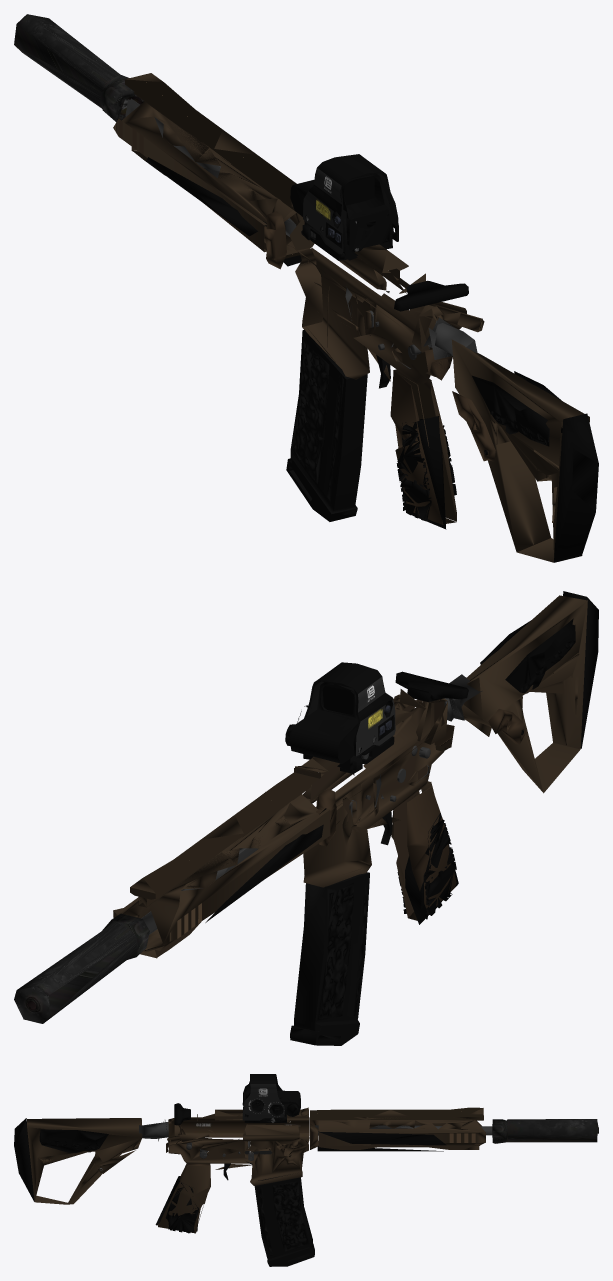
The model's file is m4_far.glb.
3 views of the same model, one above another, from view 1: azimuth 30°, elevation 25°; view 2: azimuth 150°, elevation 25°; view 3: azimuth 270°, elevation 25° (orthographic). The views are drawn at different scales.
Visible parts, largest first — view 1: body_mk18__1__1__1__2__11, body_Rubber__2, body_mk18__1__1__1__2__2, body_Paint_Textured_Black__4, body_mk18__1__1__1__2__1__1, supp_SOCOM, body_mk18__1__1__1__2__10, optic_scope1, body_mk18__1__1__1__2__1, optic_uv6__1__1__1__1, body_Anodized_Aluminum_Brushed_90___Black__1, charge_Hard_Rough_Plastic_Black__1 (+1 smaller); view 2: body_mk18__1__1__1__2__11, body_Paint_Textured_Black__4, body_mk18__1__1__1__2__2, body_mk18__1__1__1__2__1__1, body_Rubber__2, supp_SOCOM, body_mk18__1__1__1__2__10, optic_scope1, body_mk18__1__1__1__2__1, optic_uv6__1__1__1__1, charge_Hard_Rough_Plastic_Black__1, body_Anodized_Aluminum_Brushed_90___Black__1 (+2 smaller); view 3: body_mk18__1__1__1__2__11, body_mk18__1__1__1__2__2, body_Rubber__2, body_Paint_Textured_Black__4, body_mk18__1__1__1__2__1__1, supp_SOCOM, body_mk18__1__1__1__2__1, body_mk18__1__1__1__2__10, optic_scope1, body_Anodized_Aluminum_Brushed_90___Black__1, optic_uv6__1__2__1, optic_uv6__1__1__1__1 (+1 smaller).
Part boxes in pixels (x1,y1,x2,y2): body_mk18__1__1__1__2__11: [125, 73, 589, 562]; body_Rubber__2: [146, 157, 598, 562]; body_mk18__1__1__1__2__2: [289, 215, 484, 521]; body_Paint_Textured_Black__4: [286, 329, 390, 521]; body_mk18__1__1__1__2__1__1: [113, 101, 386, 290]; supp_SOCOM: [14, 14, 144, 121]; body_mk18__1__1__1__2__10: [264, 211, 495, 524]; optic_scope1: [290, 174, 392, 260]; body_mk18__1__1__1__2__1: [131, 147, 557, 522]; optic_uv6__1__1__1__1: [303, 154, 398, 253]; body_Anodized_Aluminum_Brushed_90___Black__1: [122, 98, 477, 359]; charge_Hard_Rough_Plastic_Black__1: [394, 280, 468, 311]; body_mk18__1__1__1__2__11: [130, 595, 587, 920]; body_Paint_Textured_Black__4: [290, 811, 392, 1045]; body_mk18__1__1__1__2__2: [303, 694, 444, 917]; body_mk18__1__1__1__2__1__1: [113, 767, 352, 952]; body_Rubber__2: [205, 591, 598, 924]; supp_SOCOM: [14, 913, 149, 1023]; body_mk18__1__1__1__2__10: [316, 709, 525, 913]; optic_scope1: [285, 682, 394, 773]; body_mk18__1__1__1__2__1: [140, 676, 578, 958]; optic_uv6__1__1__1__1: [304, 662, 394, 756]; charge_Hard_Rough_Plastic_Black__1: [395, 671, 468, 702]; body_Anodized_Aluminum_Brushed_90___Black__1: [141, 674, 482, 934]; body_mk18__1__1__1__2__11: [27, 1107, 483, 1228]; body_mk18__1__1__1__2__2: [158, 1120, 309, 1233]; body_Rubber__2: [14, 1118, 446, 1233]; body_Paint_Textured_Black__4: [223, 1163, 314, 1266]; body_mk18__1__1__1__2__1__1: [243, 1118, 485, 1146]; supp_SOCOM: [492, 1119, 598, 1143]; body_mk18__1__1__1__2__1: [96, 1107, 479, 1174]; body_mk18__1__1__1__2__10: [166, 1117, 318, 1177]; optic_scope1: [243, 1085, 300, 1122]; body_Anodized_Aluminum_Brushed_90___Black__1: [139, 1120, 492, 1141]; optic_uv6__1__2__1: [242, 1096, 284, 1120]; optic_uv6__1__1__1__1: [242, 1074, 284, 1117].
Bounding box in the file's own units: 0.0824 × 0.3328 × 0.9447.
45 materials, 6 textured.
